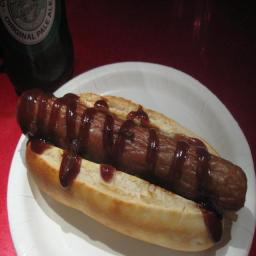hotdog: (14, 92, 248, 251)
